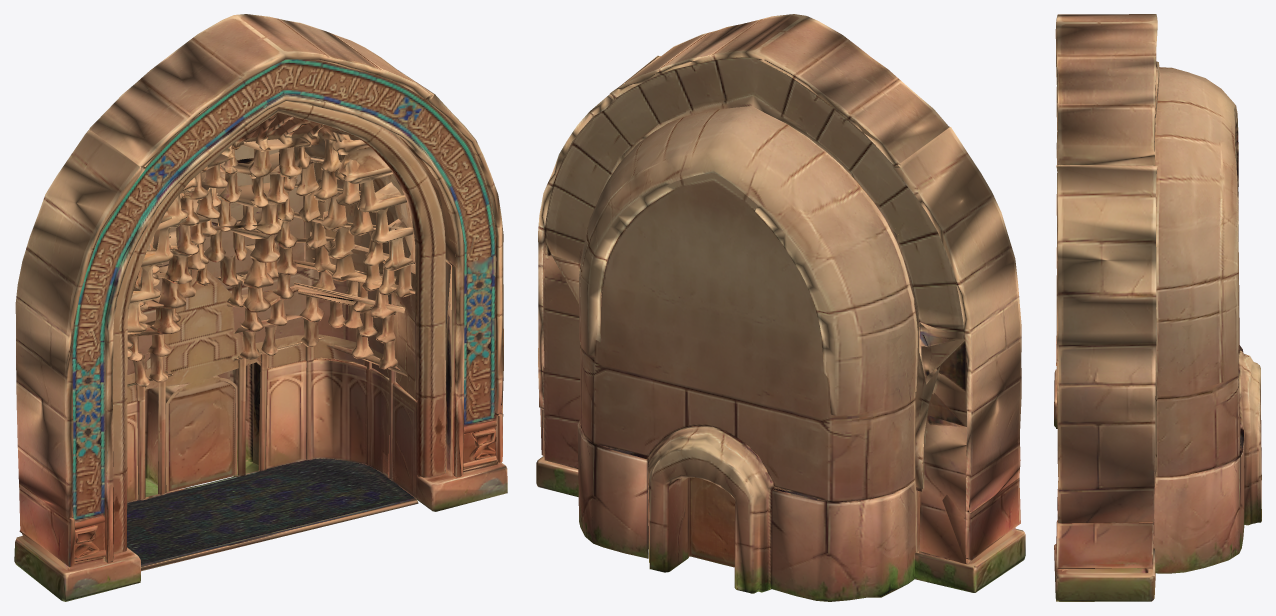
File: Meshy_AI_Muqarnas_Arch_with_Ca_0721143347_texture.fbx
3 views of the same model, side by side, from view 1: azimuth 30°, elevation 25°; view 2: azimuth 150°, elevation 25°; view 3: azimuth 270°, elevation 25° (orthographic). The views are drawn at different scales.
Parts seen in each view (by area): view 1: mesh_node; view 2: mesh_node; view 3: mesh_node.
Part boxes in pixels (bbox=[...]): mesh_node: bbox=[14, 14, 507, 601]; mesh_node: bbox=[536, 14, 1025, 601]; mesh_node: bbox=[1054, 14, 1261, 601].
Size of the model in its own units: 94.14 by 100 by 39.45.
1 material, 1 textured.
